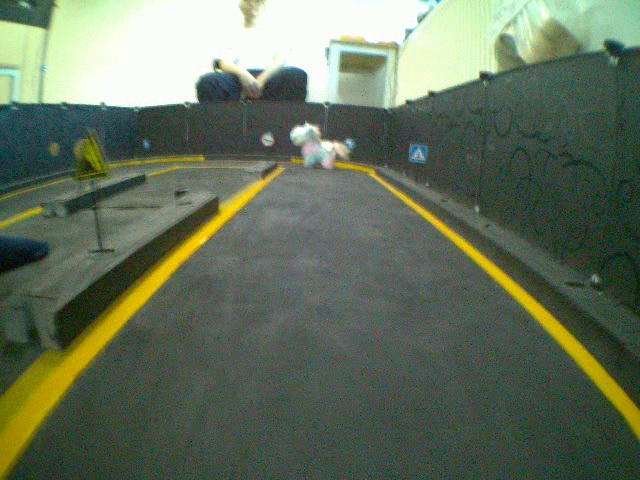unicorn: (289, 121, 351, 170)
